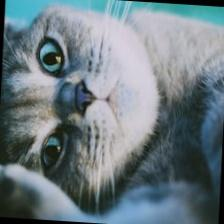kedo: (4, 6, 162, 216)
